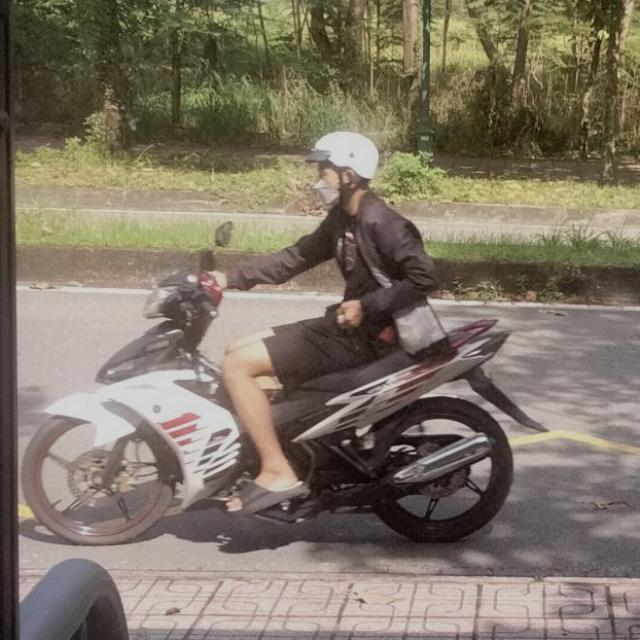Helmet: (301, 127, 382, 216)
